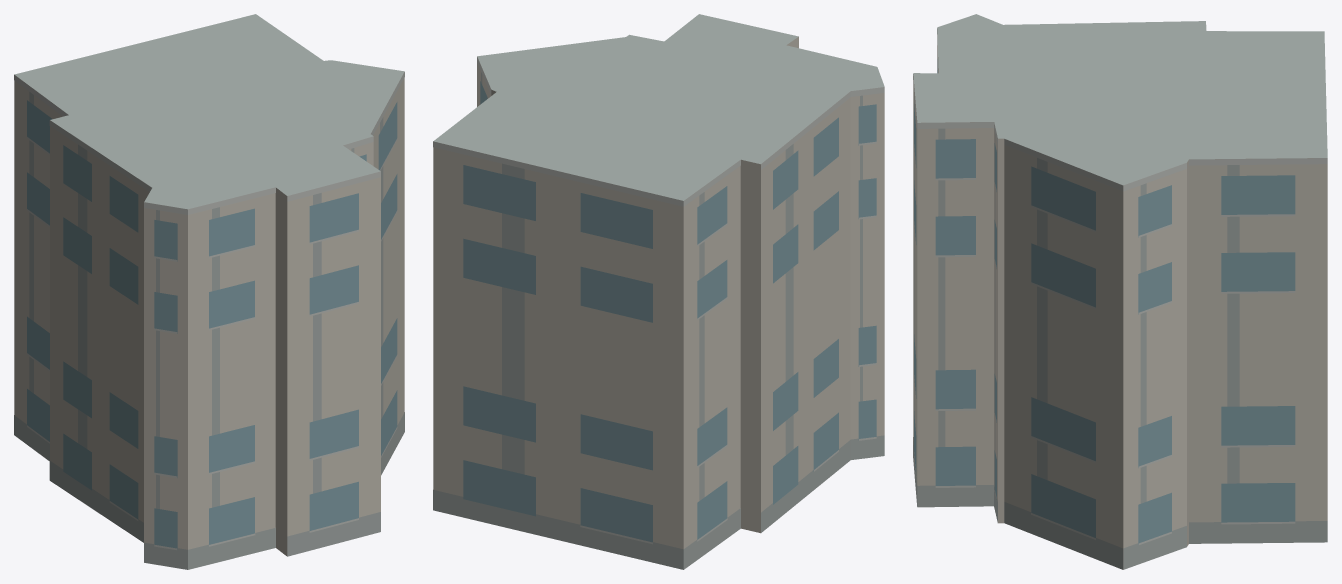
The model's file is survey-upis-32634708.glb.
3 renders of one model, left to right at view 1: azimuth 30°, elevation 25°; view 2: azimuth 150°, elevation 25°; view 3: azimuth 270°, elevation 25°, orthographic. The views are drawn at different scales.
Visible parts, largest first — view 1: survey-upis-32634708.tmp; view 2: survey-upis-32634708.tmp; view 3: survey-upis-32634708.tmp.
Boxes of the visible parts, bbox=[...] form: survey-upis-32634708.tmp: bbox=[14, 14, 404, 569]; survey-upis-32634708.tmp: bbox=[433, 14, 884, 569]; survey-upis-32634708.tmp: bbox=[913, 14, 1327, 569].
Bounding box in the file's own units: 14.59 × 15.25 × 14.91.
